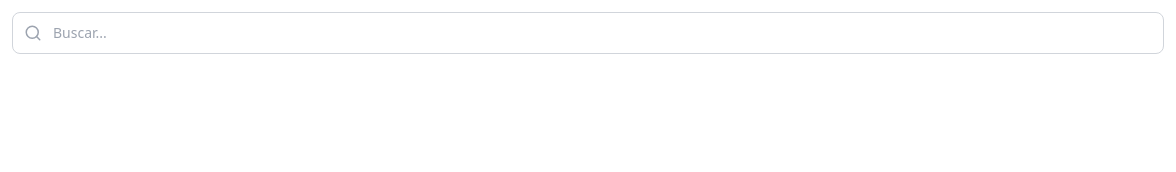
Test: SearchInput › muestra el botón de limpiar cuando hay texto y lo limpia al hacer click
Type "algo" into the field at point(588, 33), box [12,12,1164,54]
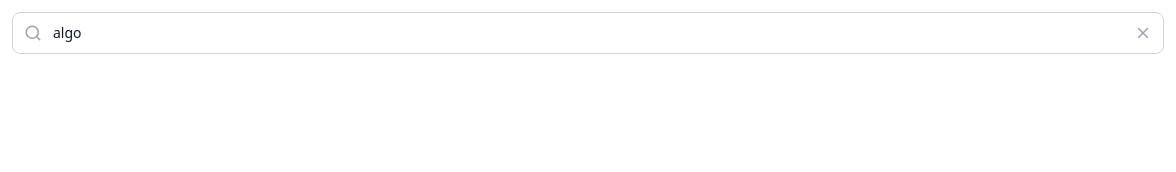
Check: the button is shown
Click the button at point(1149, 33), box [1134,12,1164,54]
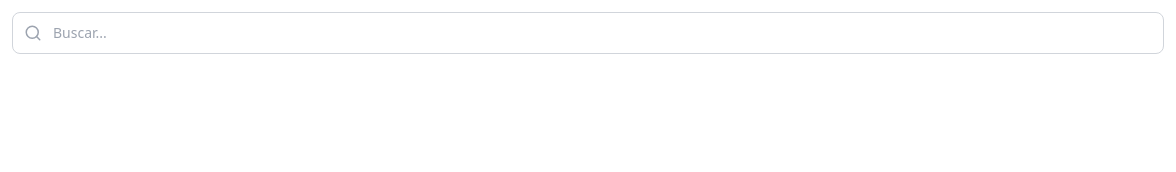
Check: the field is empty, box [12,12,1164,54]
